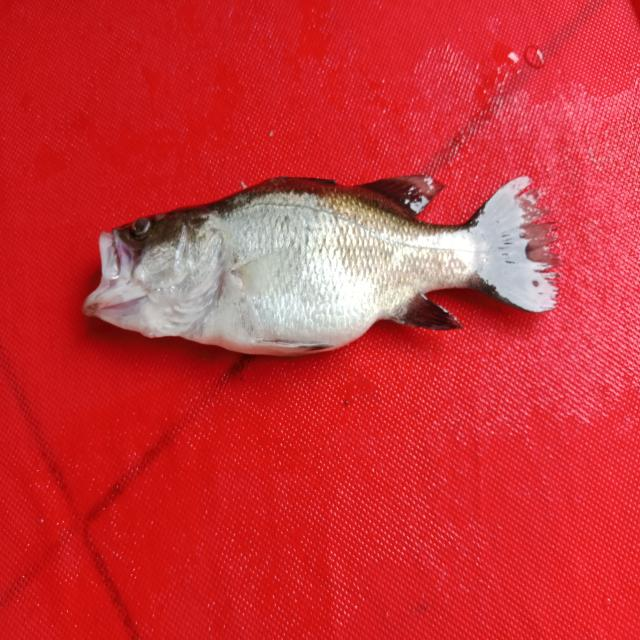ikan: (66, 148, 568, 372)
